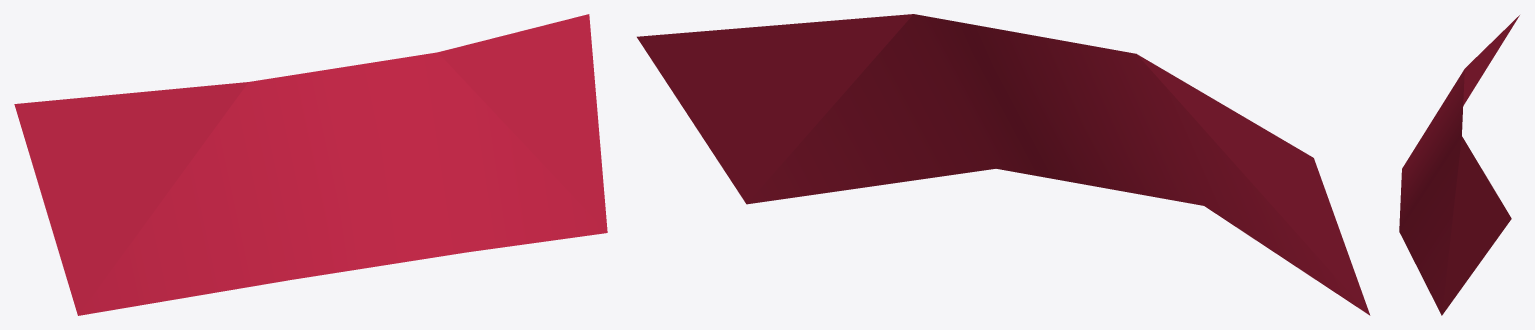
3 renders of one model, left to right at view 1: azimuth 30°, elevation 25°; view 2: azimuth 150°, elevation 25°; view 3: azimuth 270°, elevation 25°, orthographic. The views are drawn at different scales.
Parts seen in each view (by area): view 1: ef_472; view 2: ef_472; view 3: ef_472.
Boxes of the visible parts, <box> form: ef_472: <box>14,14,607,315</box>; ef_472: <box>637,14,1370,315</box>; ef_472: <box>1399,15,1519,315</box>.
Size of the model in its own units: 0.6056 by 0.2252 by 0.1757.
Materials: 1 (1 with a texture image).
